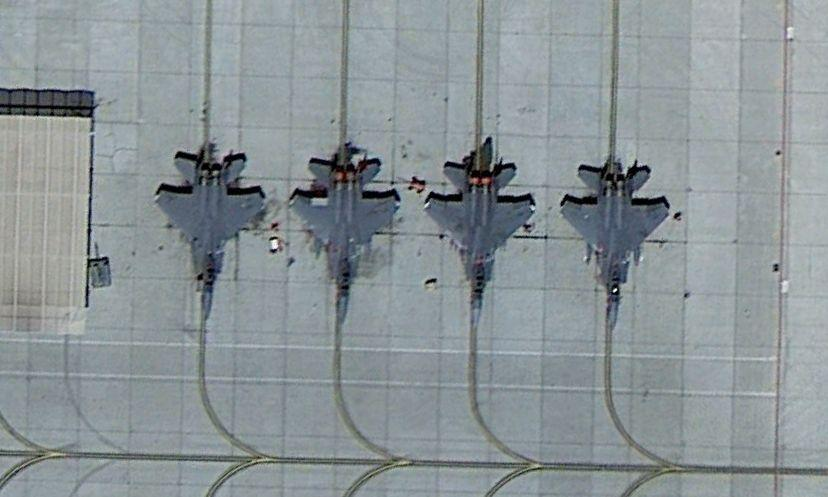F-15: (148, 148, 266, 319), (285, 151, 400, 320), (558, 157, 673, 322), (426, 153, 532, 312)
